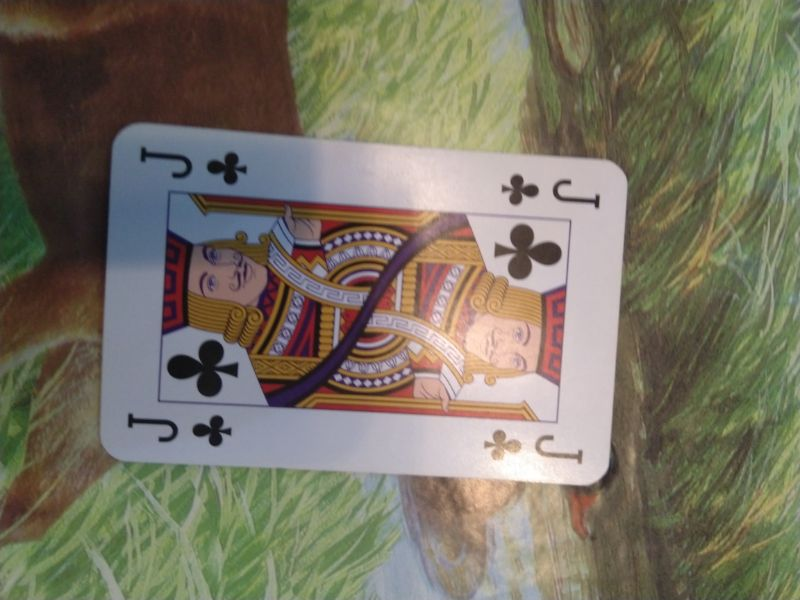Jc: (134, 140, 253, 187), (123, 407, 239, 450), (482, 424, 587, 471), (498, 171, 605, 216)
